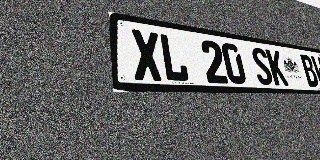0: (220, 42, 247, 84)
2: (200, 39, 228, 84)
B: (299, 54, 320, 87)
K: (265, 49, 289, 86)
L: (158, 33, 190, 82)
S: (250, 47, 275, 85)
W: (310, 56, 320, 87)
X: (130, 29, 164, 81)
